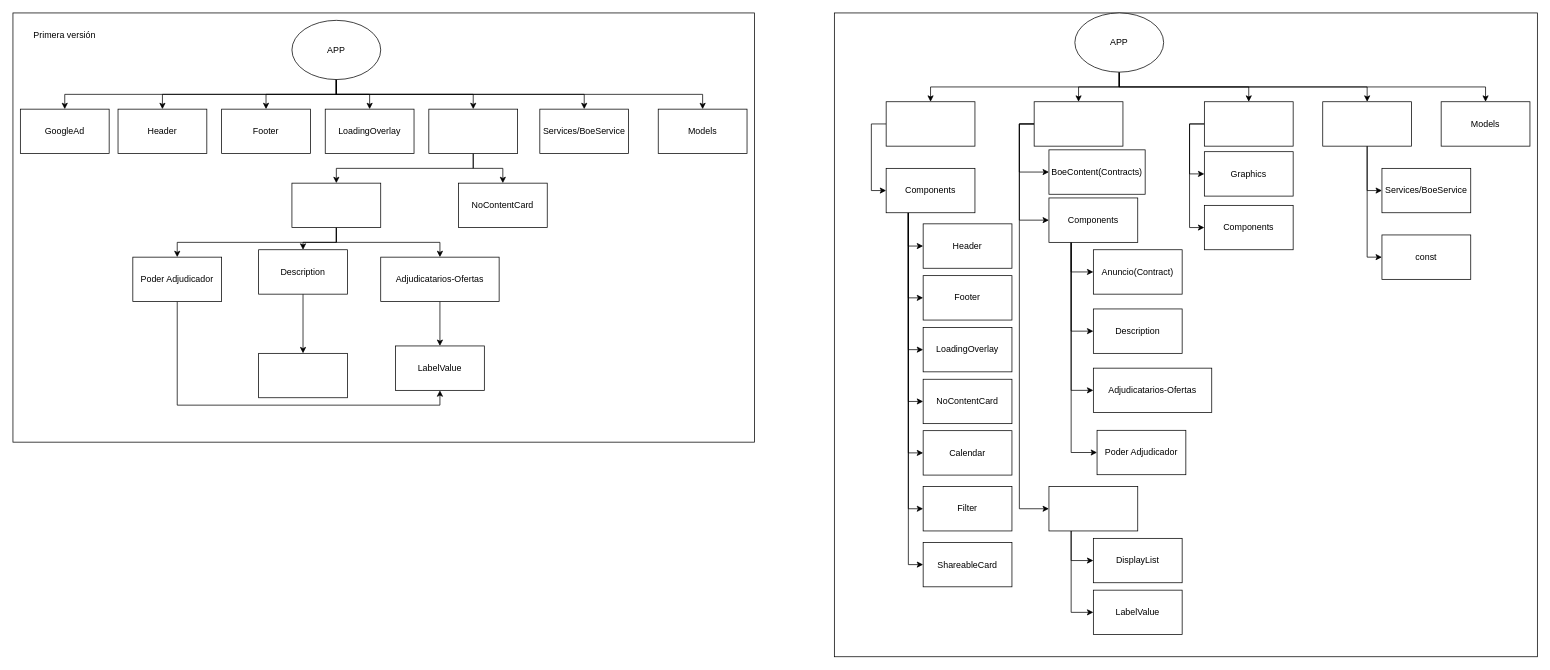
This 1550x670 diagram has some shape labels left out. Each missing label, with the centre of its shape:
"Anuncio" belongs at point (336, 205).
"BoeContent" belongs at point (473, 131).
"ContractsModule" belongs at point (1078, 123).
"Core" belongs at point (1367, 123).
"DisplayList x2" belongs at point (302, 375).
"GraphicsModule (Lazy)" belongs at point (1248, 123).
"Shared" belongs at point (1093, 508).
"ShareModule" belongs at point (930, 123).
